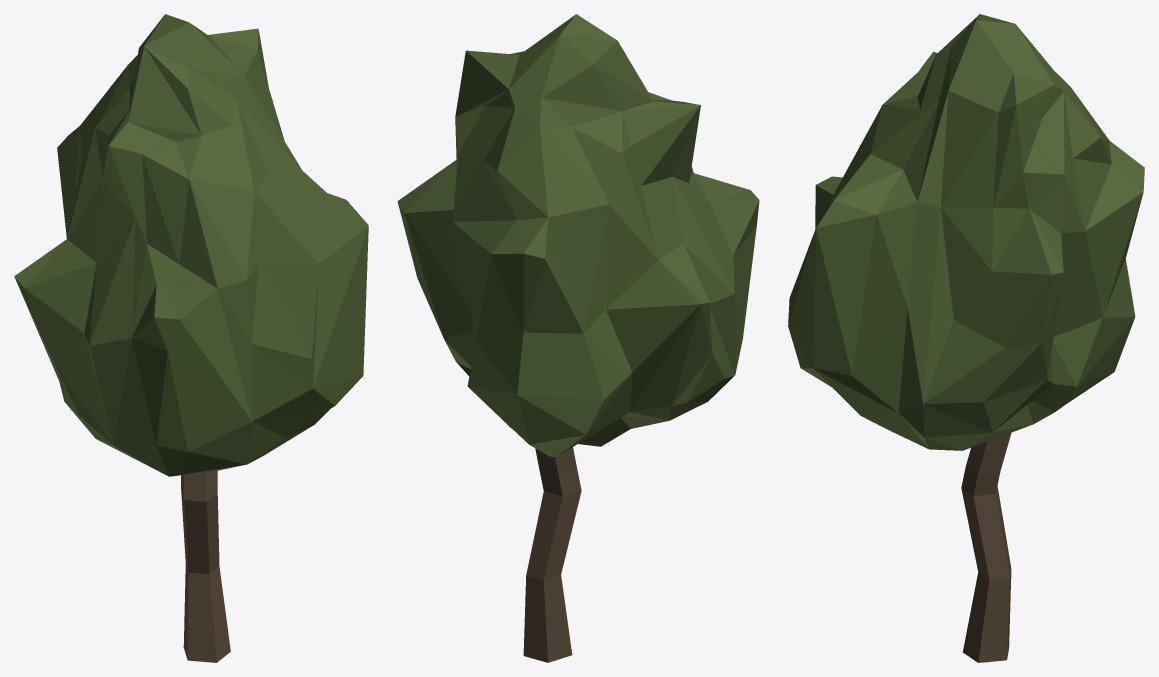
Rendered from tree_094.fbx.
3 views of the same model, side by side, from view 1: azimuth 30°, elevation 25°; view 2: azimuth 150°, elevation 25°; view 3: azimuth 270°, elevation 25° (orthographic). The views are drawn at different scales.
Visible parts, largest first — view 1: tree_094; view 2: tree_094; view 3: tree_094.
Boxes of the visible parts, left/top/right/bottom form: tree_094: left=14, top=14, right=368, bottom=662; tree_094: left=397, top=14, right=759, bottom=662; tree_094: left=788, top=14, right=1144, bottom=662.
Size of the model in its own units: 0.6431 by 1.36 by 0.7045.
1 material, 1 textured.
